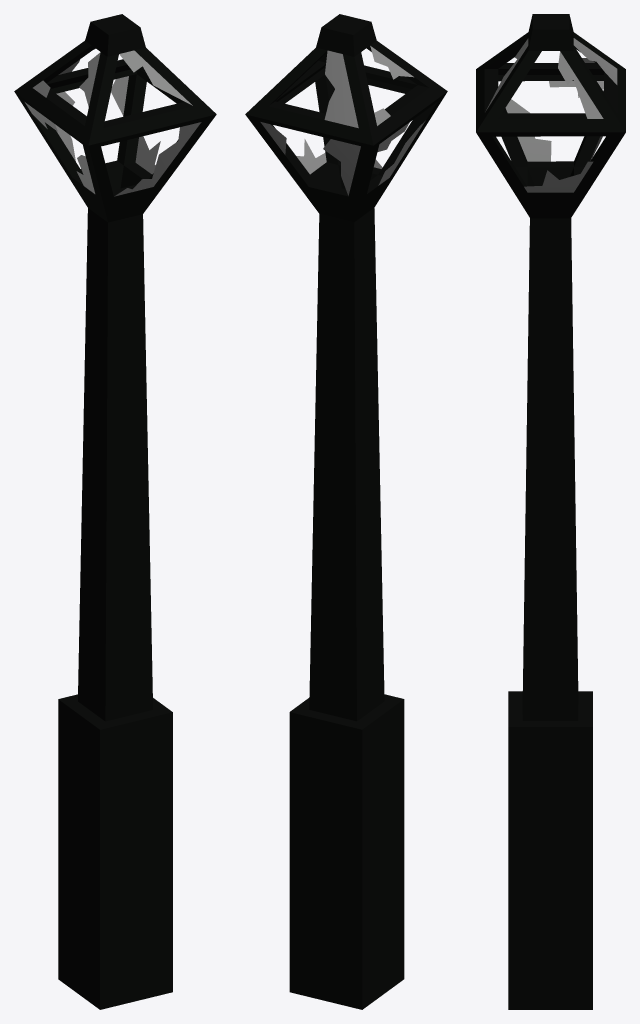
File: Lampione rotto.fbx
3 renders of one model, left to right at view 1: azimuth 30°, elevation 25°; view 2: azimuth 150°, elevation 25°; view 3: azimuth 270°, elevation 25°, orthographic.
Parts seen in each view (by area): view 1: Lampione rotto; view 2: Lampione rotto; view 3: Lampione rotto.
Boxes of the visible parts, x1,y1,x2,y2 form: Lampione rotto: (14, 14, 216, 1009); Lampione rotto: (245, 14, 447, 1009); Lampione rotto: (476, 14, 625, 1009).
Bounding box in the file's own units: 22.57 × 161 × 22.61.
